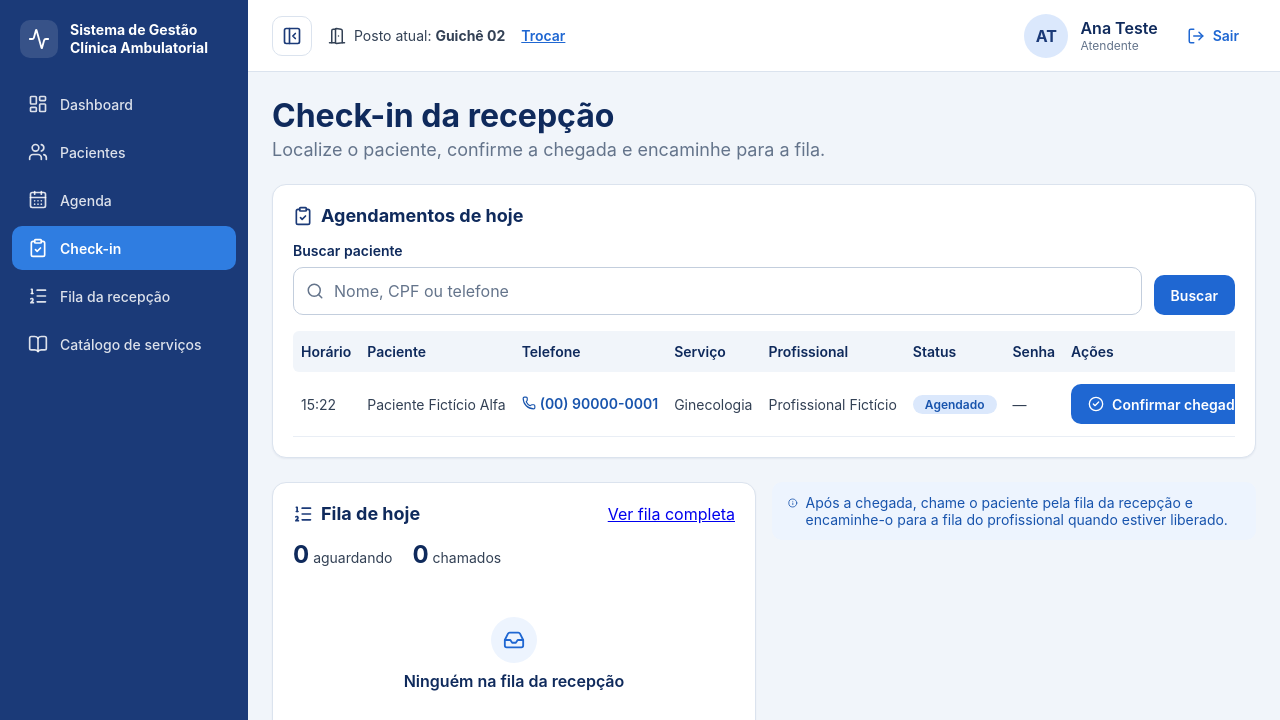
páginas da recepção › registra chegada e mostra a senha gerada
This screenshot has width=1280, height=720.
Click the button "Confirmar chegada": (1165, 404) x1=1071 y1=384 x2=1260 y2=424
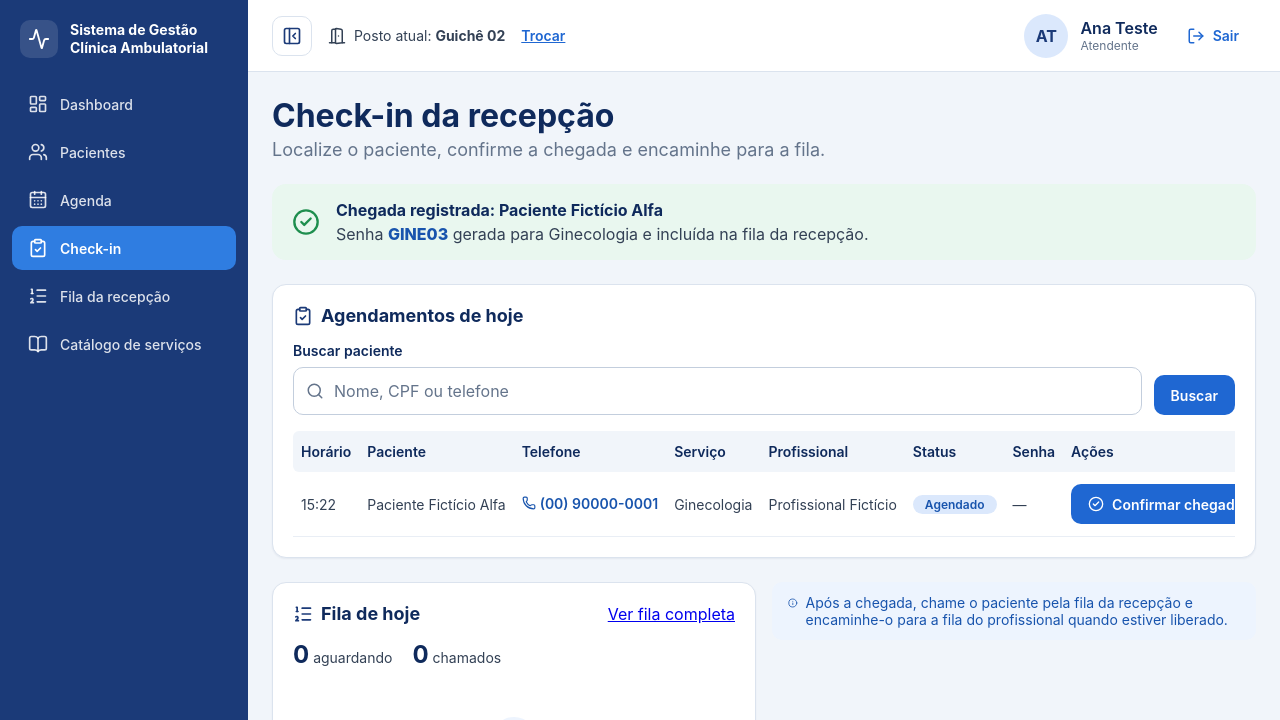
expect the text "GINE03" is shown: met, box x1=388 y1=224 x2=448 y2=244
